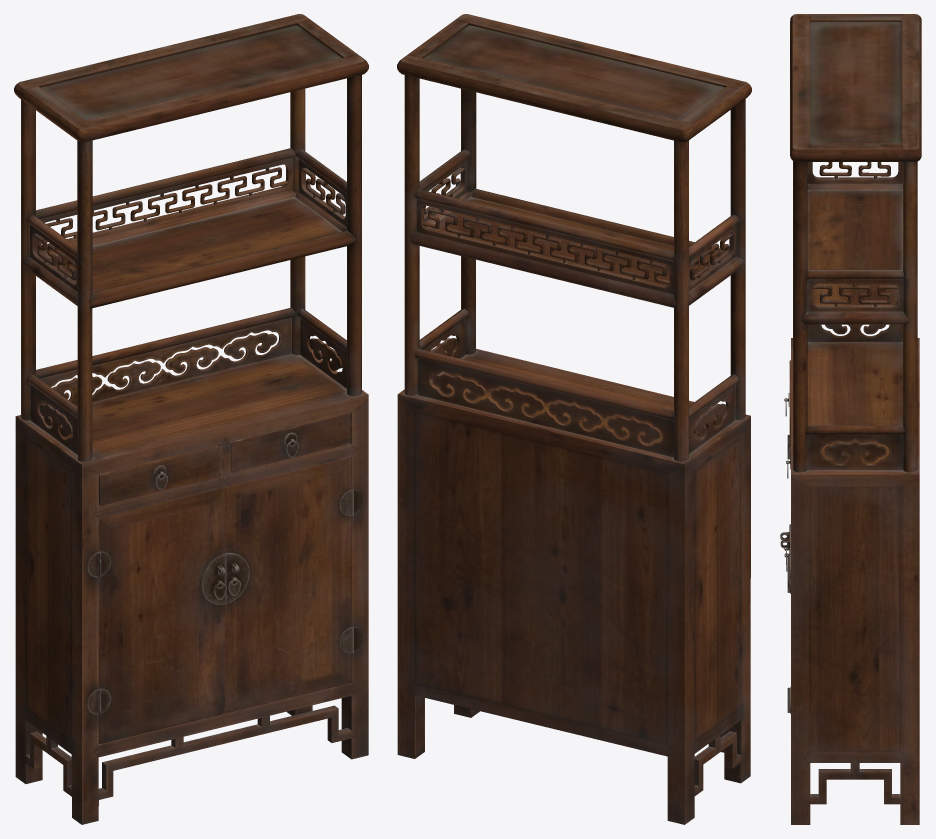
3 views of the same model, side by side, from view 1: azimuth 30°, elevation 25°; view 2: azimuth 150°, elevation 25°; view 3: azimuth 270°, elevation 25° (orthographic). The views are drawn at different scales.
Parts seen in each view (by area): view 1: chinese_cabinet; view 2: chinese_cabinet; view 3: chinese_cabinet.
Part boxes in pixels (bbox=[...]): chinese_cabinet: bbox=[14, 14, 368, 824]; chinese_cabinet: bbox=[397, 14, 751, 824]; chinese_cabinet: bbox=[780, 14, 921, 824].
Bounding box in the file's own units: 1.26 × 2.87 × 0.5452.
1 material, 1 textured.
